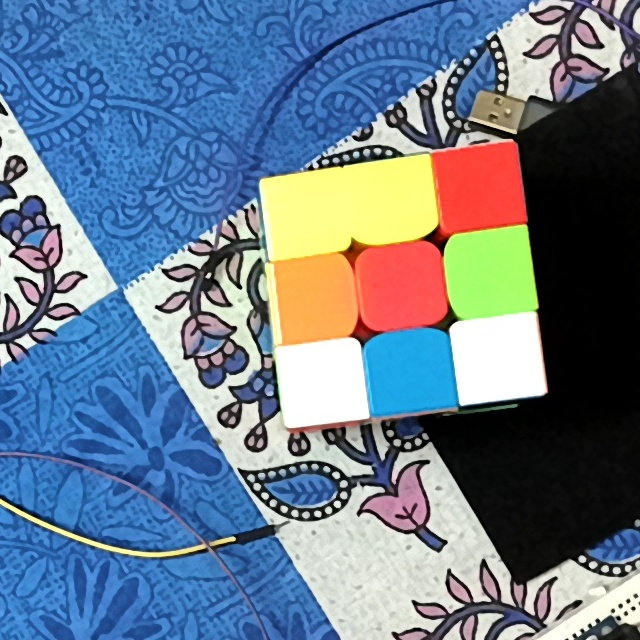tile: (456, 238, 528, 309), (461, 325, 535, 393), (446, 153, 517, 222), (367, 252, 438, 321), (277, 265, 346, 334), (376, 340, 446, 408), (287, 348, 358, 413), (270, 180, 337, 245), (357, 168, 424, 229)
